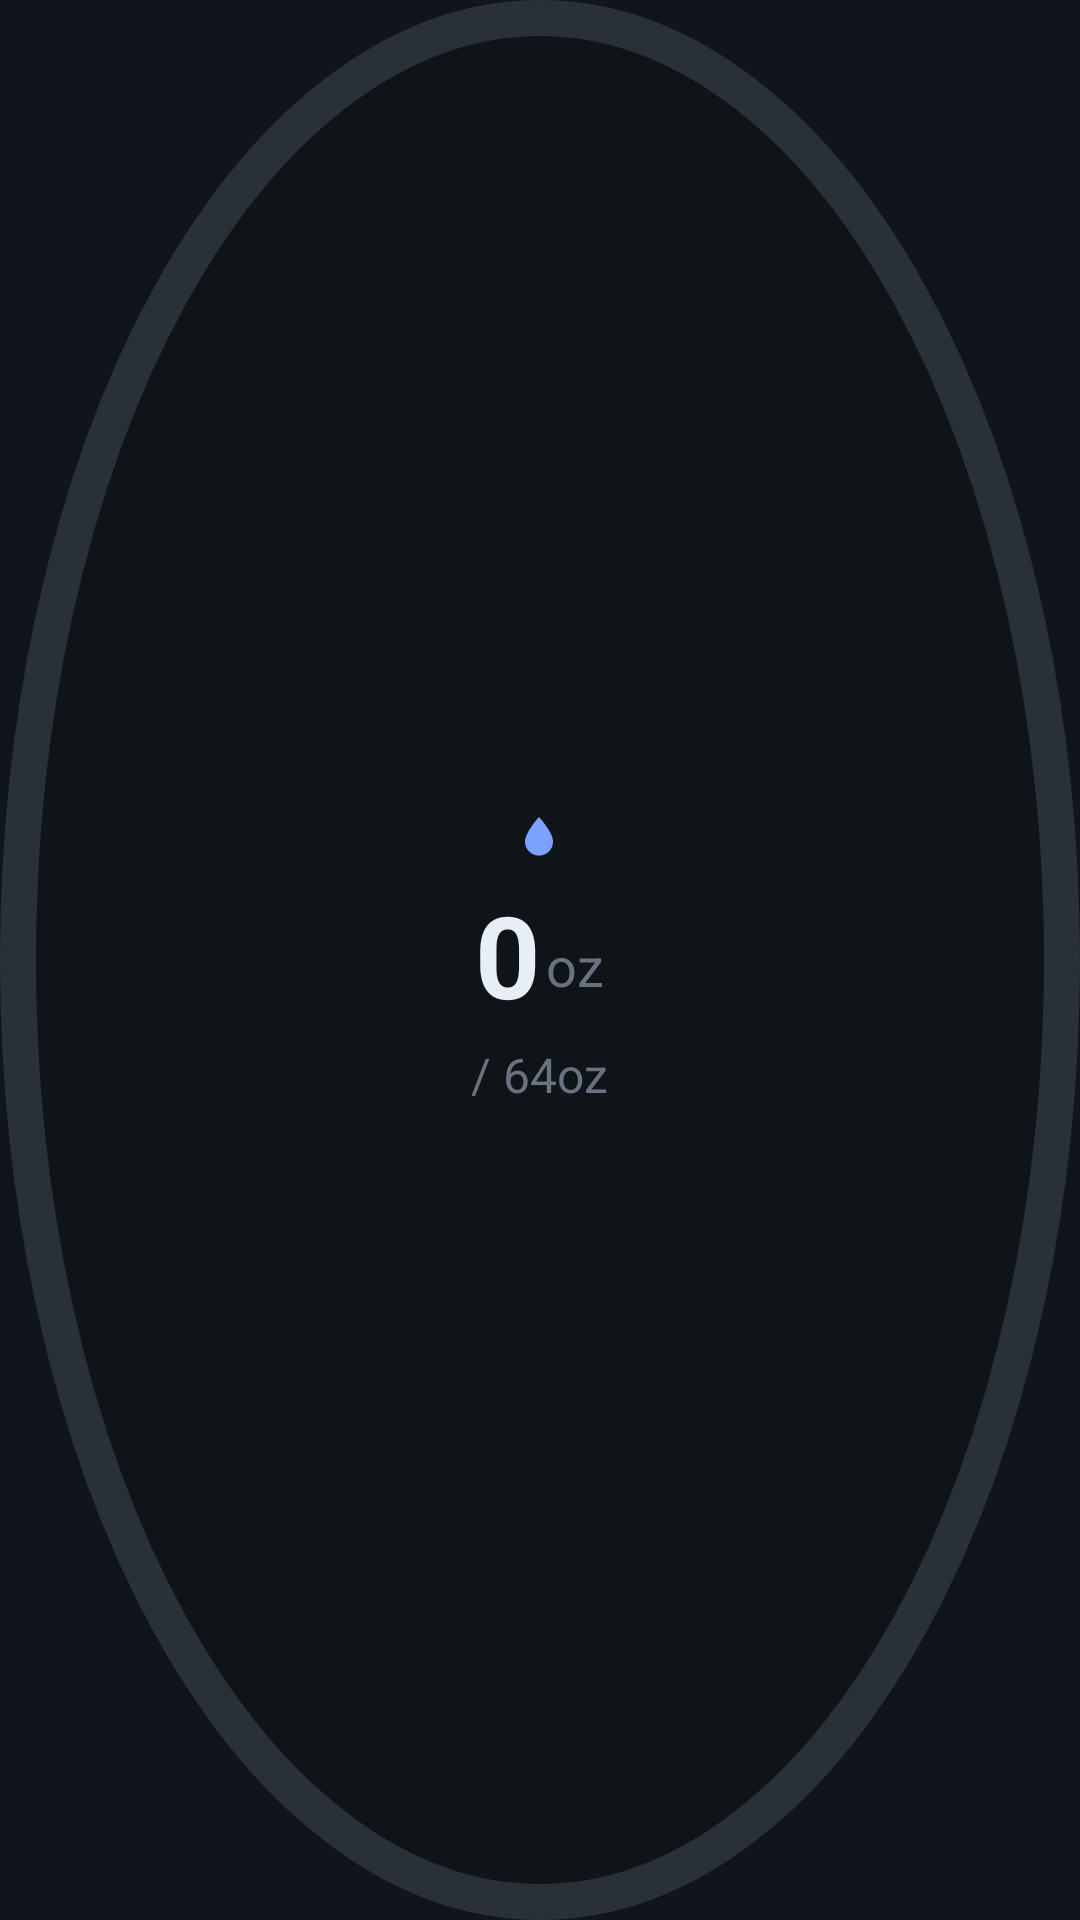

Named icons in this screenshot (1080 × 1920) and their centers, [x,y]:
droplet: [539,836]
